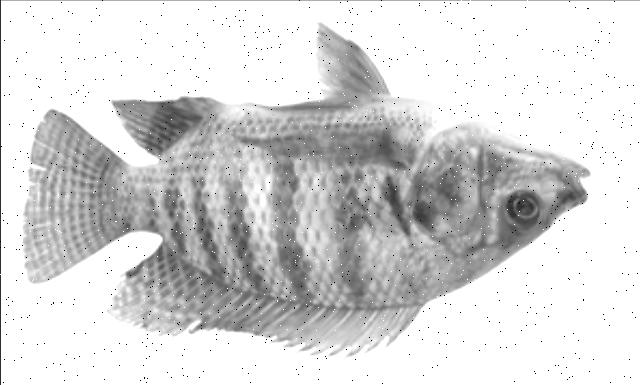Mulut: (550, 137, 620, 225)
Sirip Anal: (98, 82, 234, 162)
Sirip Dada: (214, 115, 423, 184)
Sirip Ekor: (15, 95, 125, 293)
Sirip Perut: (228, 23, 392, 124)
Sirip Punggung: (101, 232, 431, 368)
